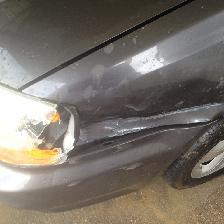head_lamp: (26, 76, 211, 169)
